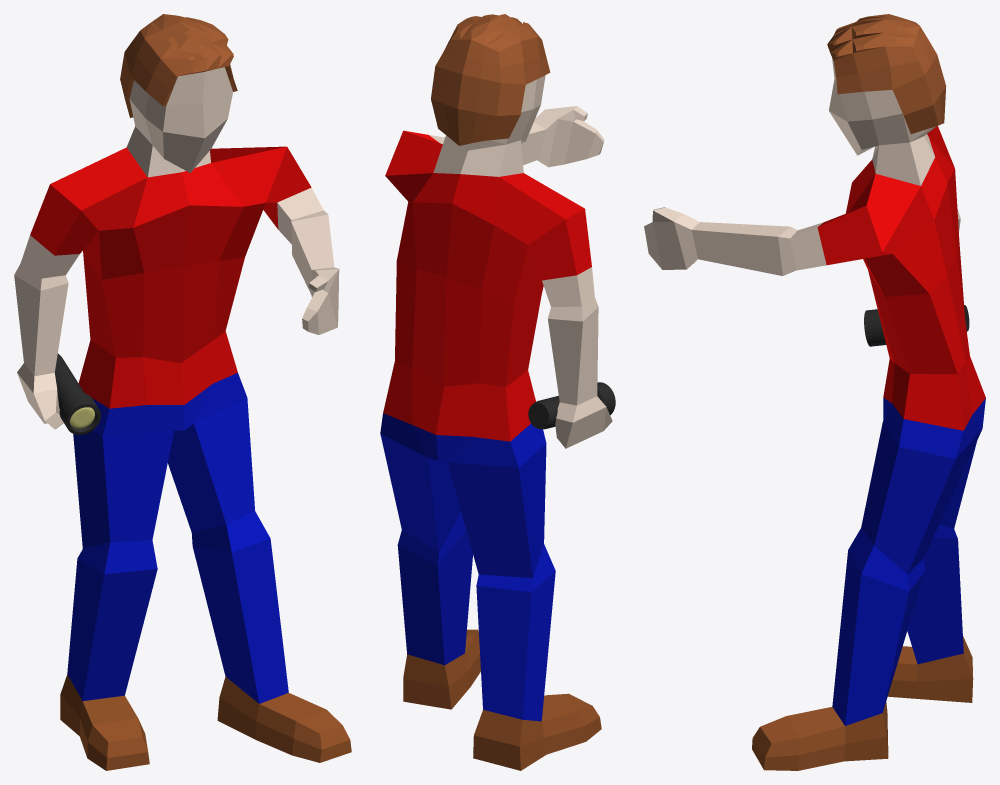
Rendered from Human_grabbing_35.fbx.
3 views of the same model, side by side, from view 1: azimuth 30°, elevation 25°; view 2: azimuth 150°, elevation 25°; view 3: azimuth 270°, elevation 25° (orthographic). The views are drawn at different scales.
Parts seen in each view (by area): view 1: Person.003, Cylinder.002; view 2: Person.003, Cylinder.002; view 3: Person.003, Cylinder.002.
Part boxes in pixels (box(x1,y1,x2,y2)): Person.003: box(14, 14, 351, 770); Cylinder.002: box(55, 353, 100, 434); Person.003: box(380, 14, 612, 770); Cylinder.002: box(528, 382, 615, 429); Person.003: box(644, 14, 985, 770); Cylinder.002: box(864, 305, 969, 346).
Bounding box in the file's own units: 0.5564 × 1.56 × 0.6936.
